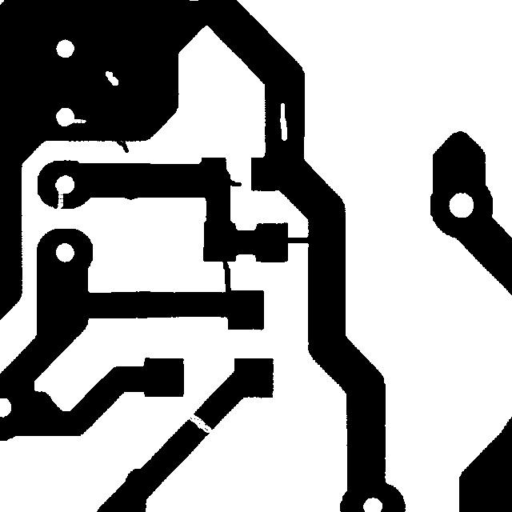mousebite: (60, 110, 94, 131)
open: (178, 406, 221, 440), (49, 183, 70, 217)
pin-hole: (272, 95, 294, 148), (98, 63, 126, 93)
short: (214, 247, 238, 301), (278, 229, 318, 250)
spur: (106, 129, 136, 160), (217, 170, 249, 194)
